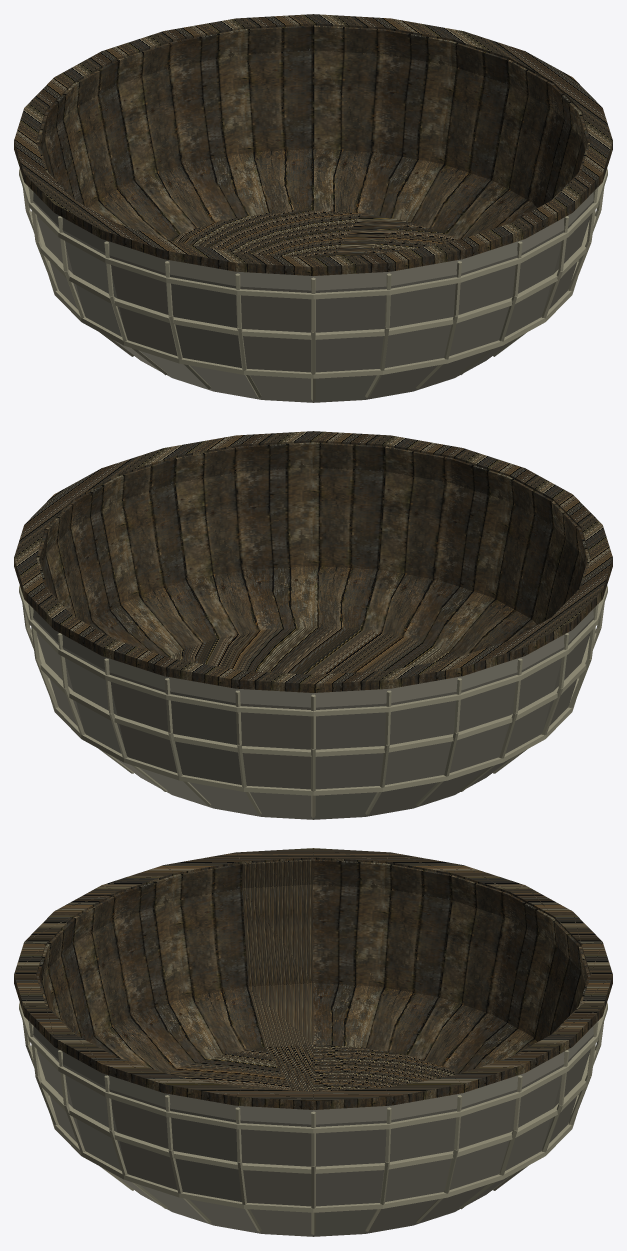
The model's file is thung_boat_reduced.glb.
3 views of the same model, one above another, from view 1: azimuth 30°, elevation 25°; view 2: azimuth 150°, elevation 25°; view 3: azimuth 270°, elevation 25° (orthographic).
Visible parts, largest first — view 1: BasketHull, TarExterior, BambooRim, WovenBands; view 2: BasketHull, TarExterior, BambooRim, WovenBands; view 3: BasketHull, TarExterior, BambooRim, WovenBands.
Part boxes in pixels (x1,y1,x2,y2): BasketHull: [36, 25, 590, 257]; TarExterior: [28, 186, 598, 402]; BambooRim: [14, 14, 612, 275]; WovenBands: [19, 168, 607, 400]; BasketHull: [36, 442, 590, 674]; TarExterior: [28, 603, 598, 819]; BambooRim: [14, 431, 612, 692]; WovenBands: [19, 585, 607, 817]; BasketHull: [36, 859, 590, 1091]; TarExterior: [28, 1020, 598, 1236]; BambooRim: [14, 848, 612, 1109]; WovenBands: [19, 1002, 607, 1234].
Size of the model in its own units: 2.16 by 0.7075 by 2.16.
Materials: 4 (2 with a texture image).
